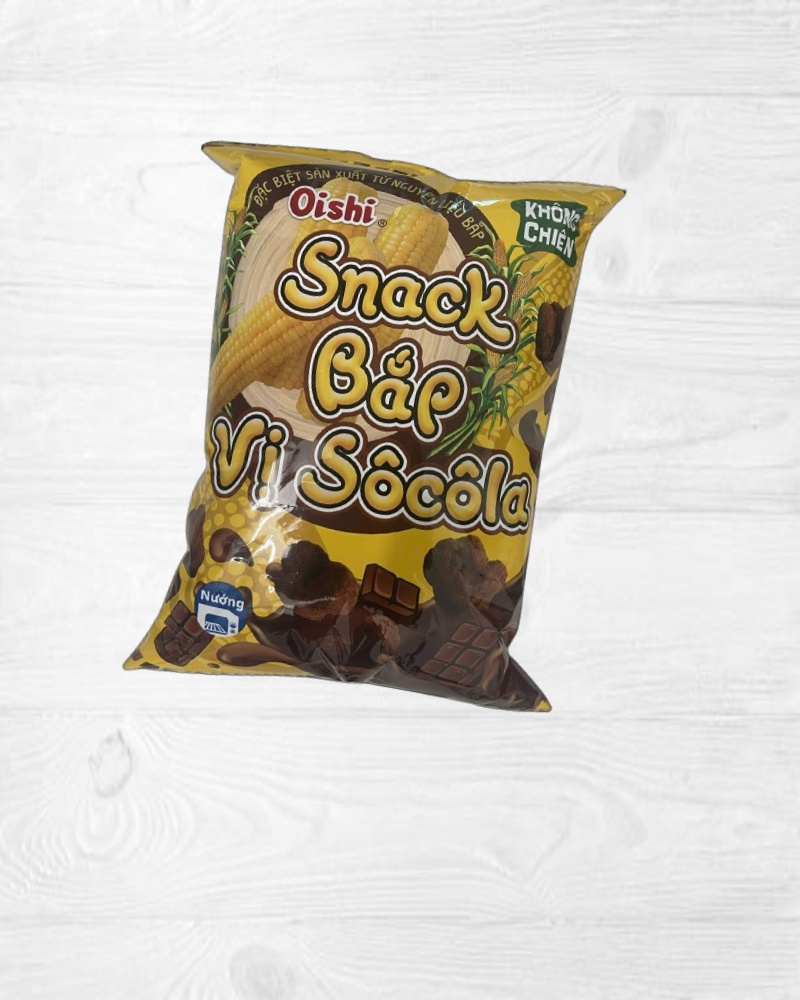Snack socola: (115, 120, 643, 733)
